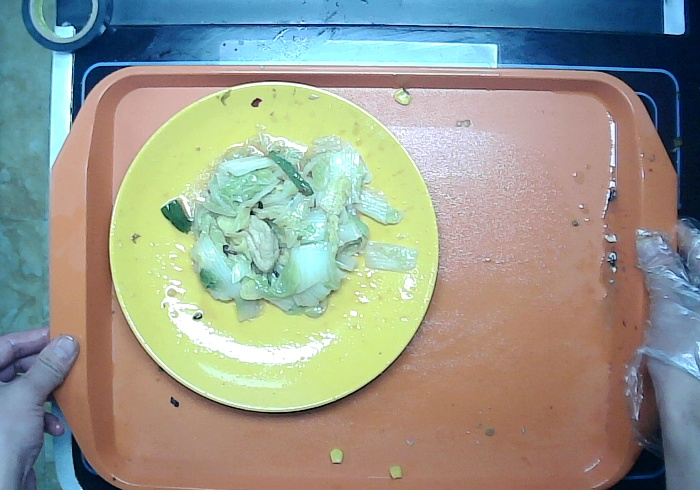HZYJPL-Huang_Se_Yuan_Pan: (96, 83, 446, 432)
